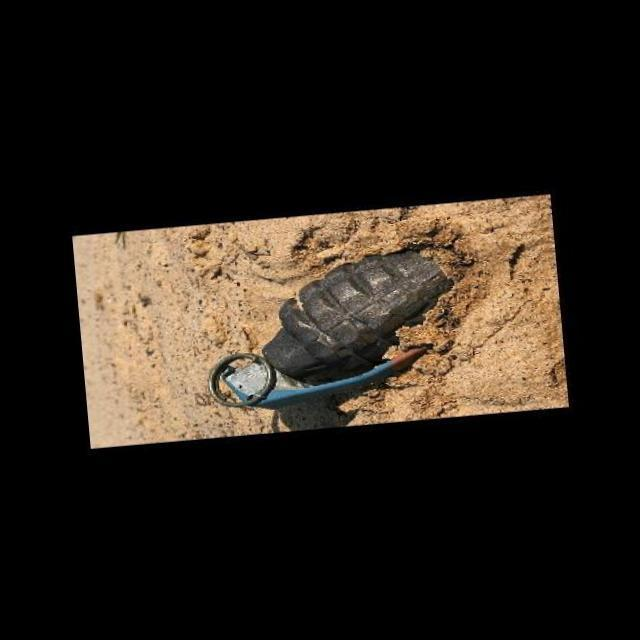grenade: (184, 226, 486, 417)
